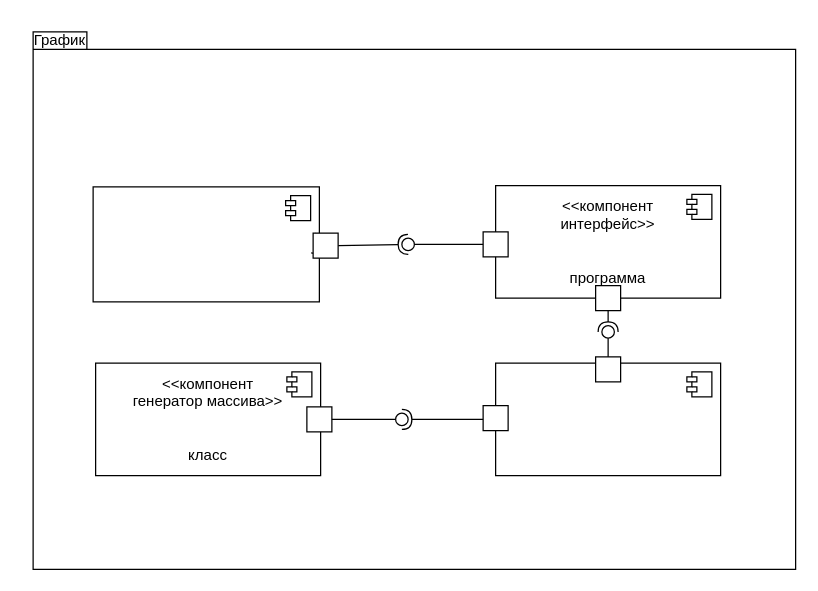
This 818x591 diagram has some shape labels left out. The box of each missing label's shape, as (x1, y1, x2, y2) in pixels:
<<компонент график массива>> класс: (494, 362, 721, 476)
<<компонент устройство>> Компьютер: (92, 186, 319, 302)
